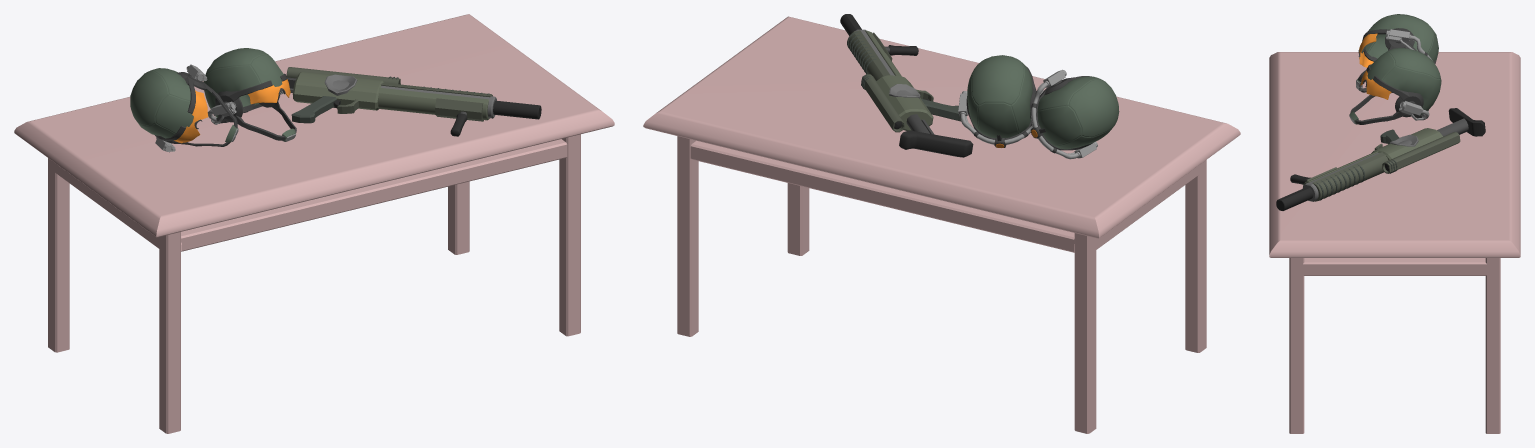
The model's file is TableWithStuff.fbx.
3 views of the same model, side by side, from view 1: azimuth 30°, elevation 25°; view 2: azimuth 150°, elevation 25°; view 3: azimuth 270°, elevation 25° (orthographic). The views are drawn at different scales.
Visible parts, largest first — view 1: pCube13, polySurface7, pCube25, pCube24; view 2: pCube13, polySurface7, pCube25, pCube24; view 3: pCube13, polySurface7, pCube24, pCube25.
Boxes of the visible parts, box(x1,y1,x2,y2) form: pCube13: box(14, 14, 614, 433); polySurface7: box(286, 67, 541, 136); pCube25: box(130, 64, 238, 152); pCube24: box(203, 48, 296, 141); pCube13: box(643, 16, 1240, 433); polySurface7: box(840, 14, 973, 157); pCube25: box(1030, 69, 1119, 159); pCube24: box(958, 55, 1043, 147); pCube13: box(1269, 52, 1520, 433); polySurface7: box(1276, 108, 1485, 210); pCube24: box(1349, 47, 1441, 124); pCube25: box(1356, 14, 1438, 92).
Bounding box in the file's own units: 199 × 125 × 107.
3 materials, 2 textured.
